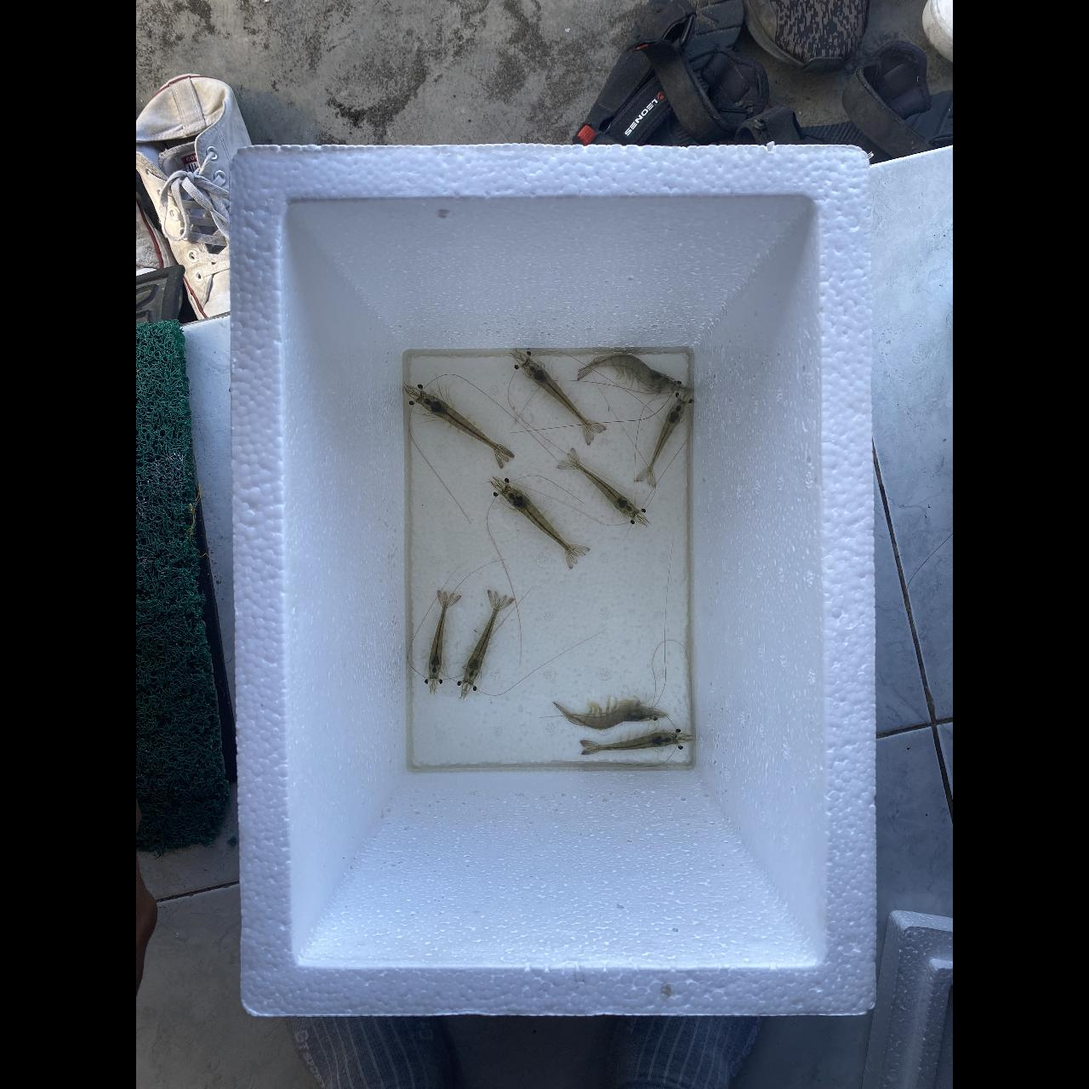side_shrimp: (577, 354, 672, 390), (553, 702, 652, 729)
top_shrimp: (420, 394, 508, 455), (503, 486, 577, 557), (524, 359, 594, 432), (569, 460, 635, 515), (646, 400, 685, 479), (465, 599, 500, 682), (587, 732, 677, 751), (429, 596, 447, 679)
